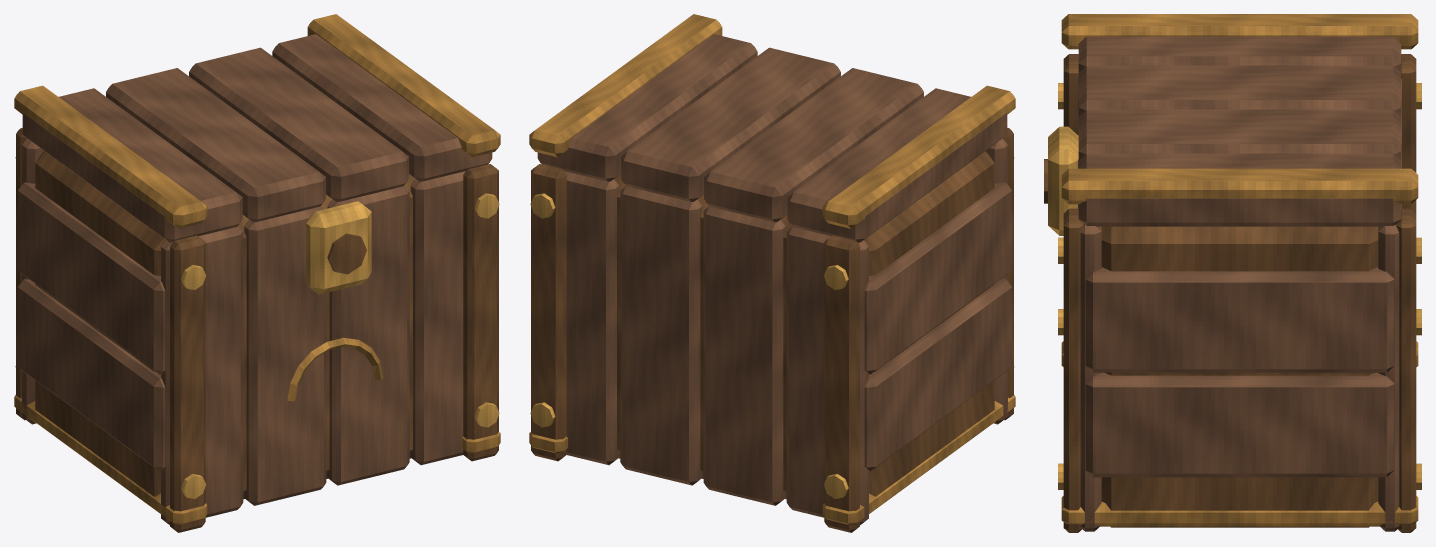
Rendered from supply_crate.glb.
3 views of the same model, side by side, from view 1: azimuth 30°, elevation 25°; view 2: azimuth 150°, elevation 25°; view 3: azimuth 270°, elevation 25° (orthographic). The views are drawn at different scales.
Parts seen in each view (by area): view 1: Supply_chest; view 2: Supply_chest; view 3: Supply_chest.
Part boxes in pixels (x1,y1,x2,y2): Supply_chest: (14, 14, 500, 532); Supply_chest: (529, 14, 1015, 532); Supply_chest: (1044, 14, 1421, 532).
Size of the model in its own units: 0.796 by 0.725 by 0.702.
4 materials, 4 textured.
